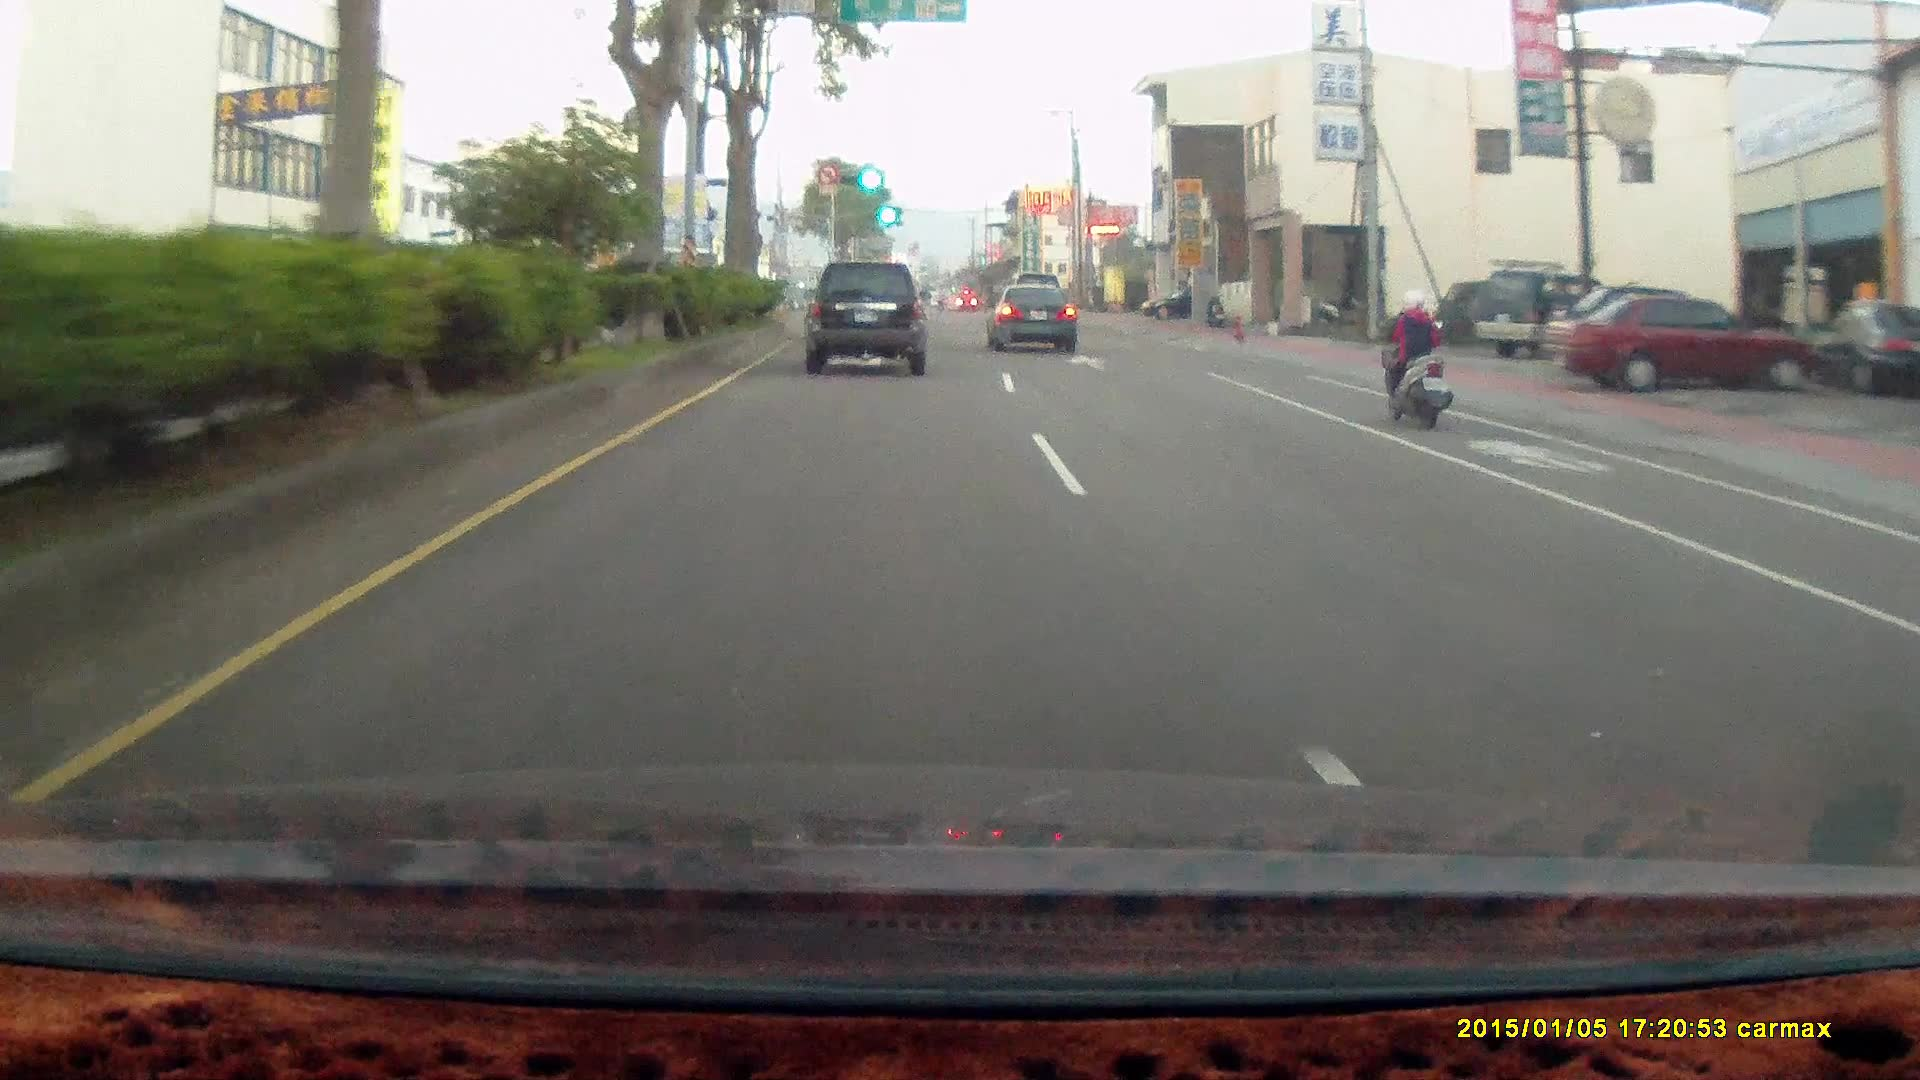rider: (1362, 273, 1468, 444), (1376, 289, 1452, 431)
vehicle: (1556, 297, 1823, 401), (1542, 294, 1818, 392), (807, 266, 931, 381), (805, 260, 929, 374), (1470, 270, 1625, 361), (1473, 273, 1608, 363), (1805, 299, 1920, 395), (985, 285, 1079, 355), (986, 283, 1077, 353), (1428, 280, 1520, 345), (1139, 285, 1223, 319), (1138, 286, 1193, 324)
